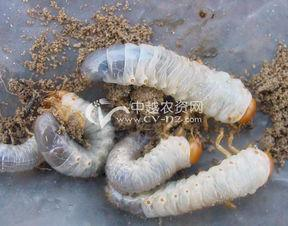grub: (102, 131, 278, 222)
